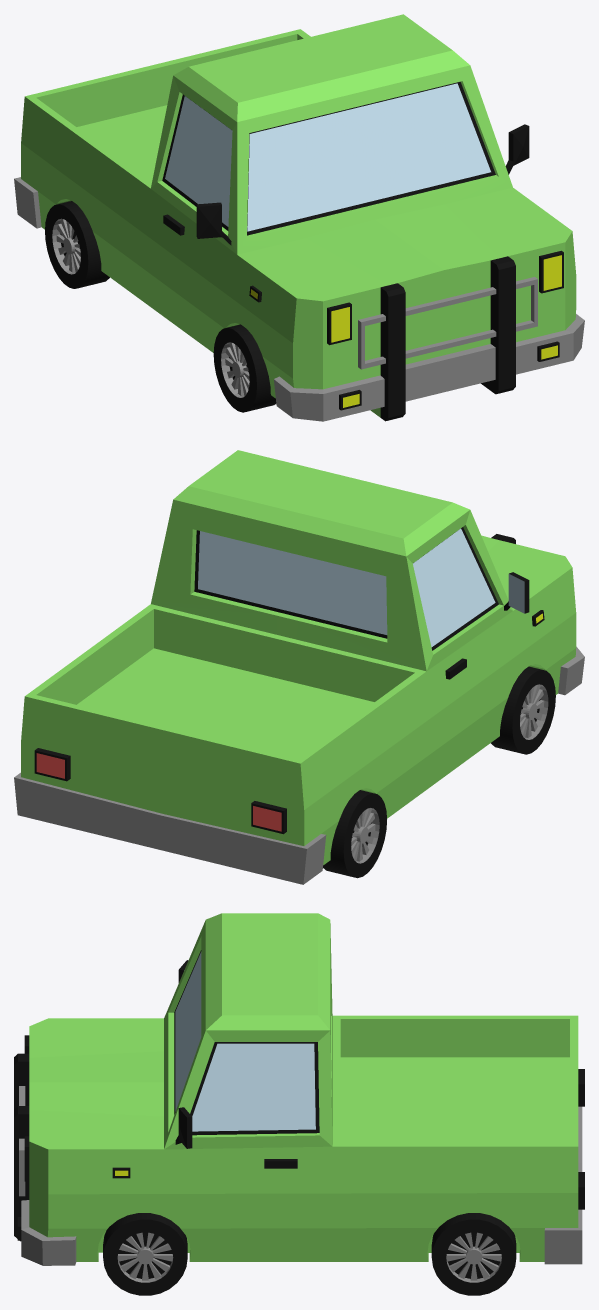
File: Pickup.fbx
The picture shows the model from 3 angles, top to bottom: view 1: azimuth 30°, elevation 25°; view 2: azimuth 150°, elevation 25°; view 3: azimuth 270°, elevation 25°; orthographic projection. The views are drawn at different scales.
Visible parts, largest first — view 1: Pickup, PickupFontRightWheel, PickupRearRightWheel; view 2: Pickup, PickupRearRightWheel, PickupFontRightWheel; view 3: Pickup, PickupRearLeftWheel, PickupFontLeftWheel.
Boxes of the visible parts, x1=… form: Pickup: x1=14, y1=14, x2=584, y2=421; PickupFontRightWheel: x1=213, y1=324, x2=276, y2=412; PickupRearRightWheel: x1=45, y1=201, x2=109, y2=288; Pickup: x1=14, y1=450, x2=584, y2=884; PickupRearRightWheel: x1=323, y1=790, x2=386, y2=878; PickupFontRightWheel: x1=491, y1=666, x2=555, y2=754; Pickup: x1=14, y1=913, x2=584, y2=1265; PickupRearLeftWheel: x1=431, y1=1213, x2=516, y2=1295; PickupFontLeftWheel: x1=103, y1=1213, x2=187, y2=1295.
Bounding box in the file's own units: 600 × 463 × 919.
